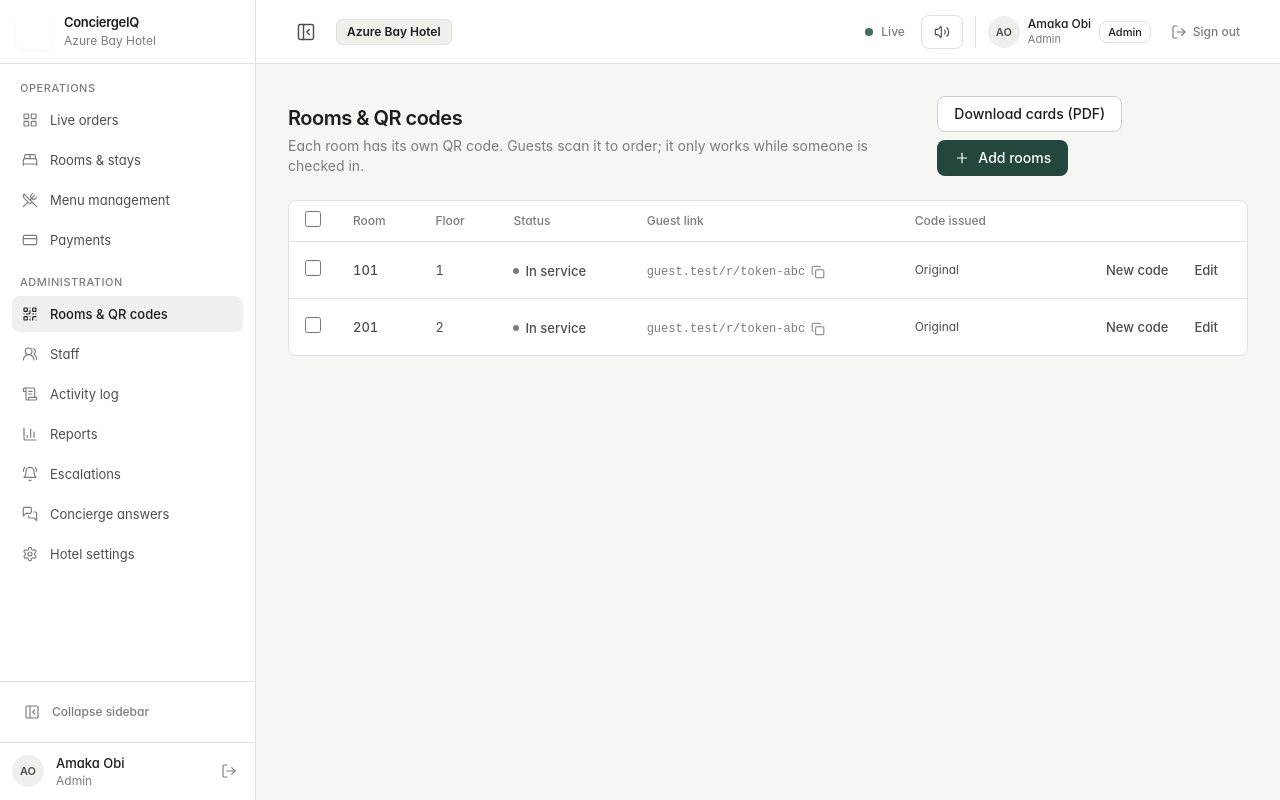
Test: QrPdfModal on the QR Codes page › shows the floor selector when multiple floors exist
What coordinates should you click on to do the following:
click the button "Download cards (PDF)"
I would click on:
 (1030, 114)
Its box is [937, 96, 1122, 132].
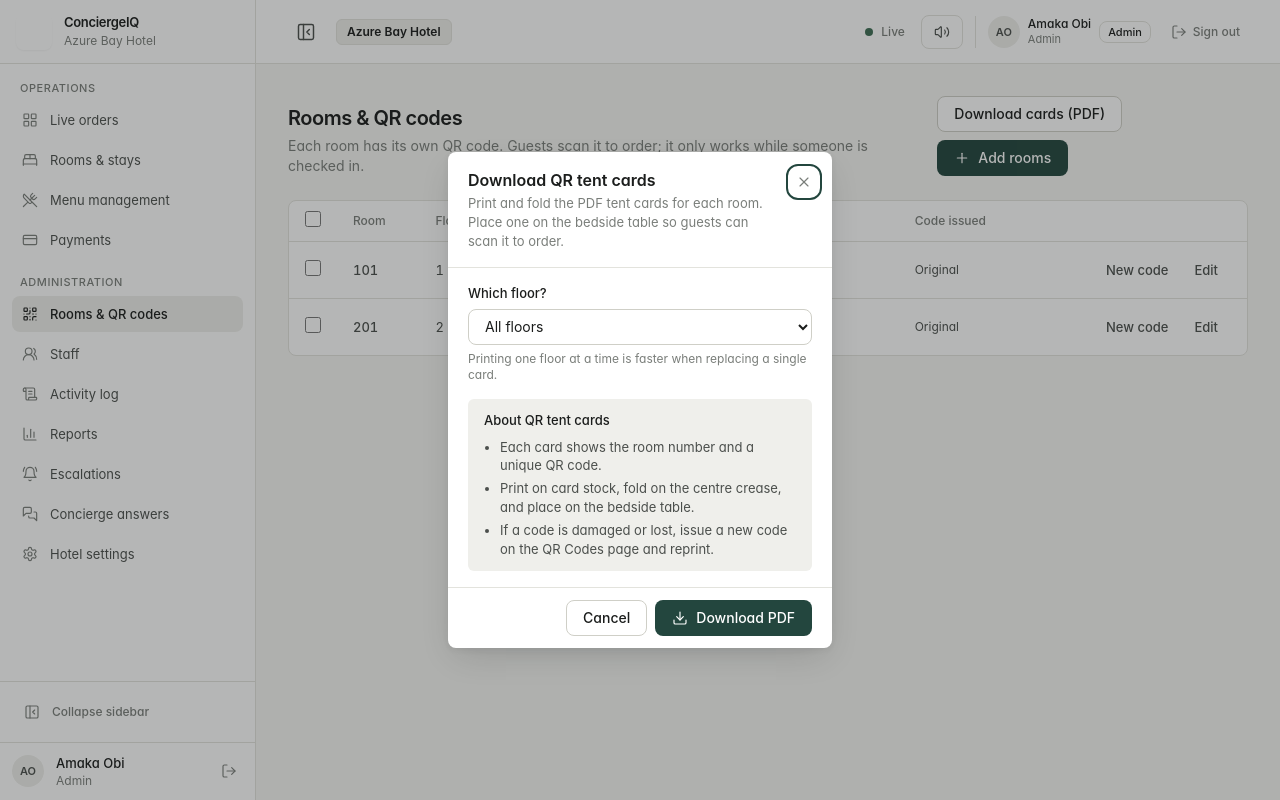
Expected: the dropdown labelled "Which floor?" is shown, [468, 309, 812, 345]
